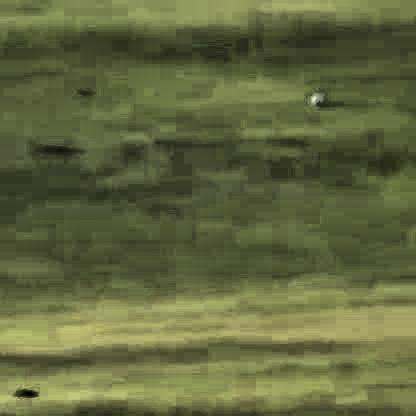golfball: (307, 92, 320, 105)
